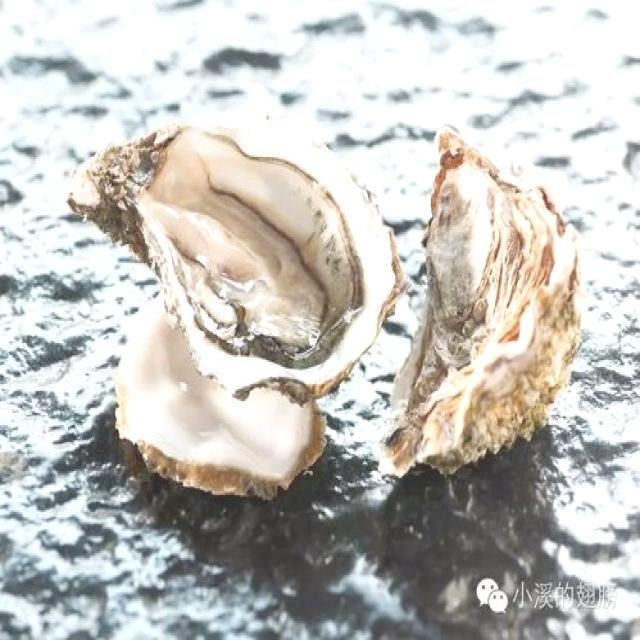Oyster-Closed: (373, 127, 582, 475)
Oyster-Open: (66, 114, 410, 400), (111, 290, 329, 500)
